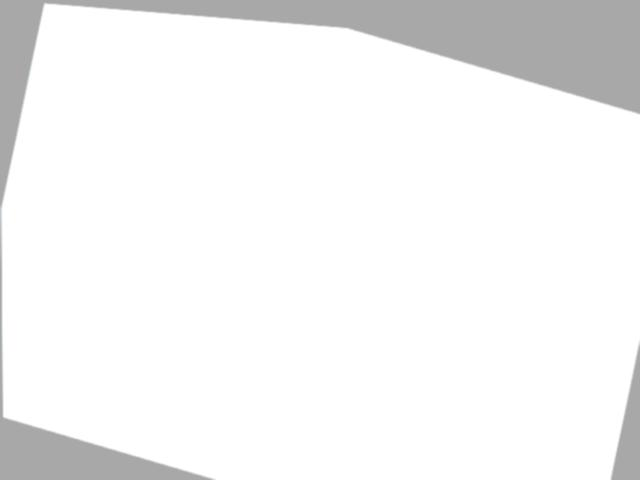iha: (269, 212, 339, 273)
